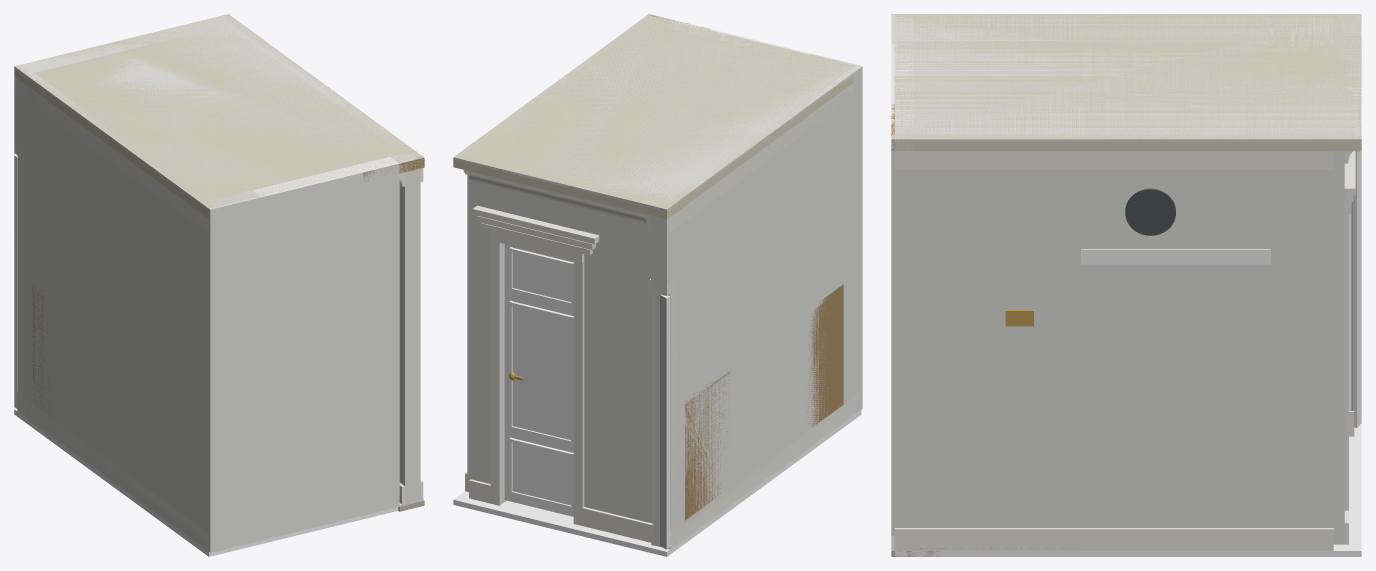
3 views of the same model, side by side, from view 1: azimuth 30°, elevation 25°; view 2: azimuth 150°, elevation 25°; view 3: azimuth 270°, elevation 25° (orthographic). The views are drawn at different scales.
Visible parts, largest first — view 1: Proposal revision | Family cloakroom partition | end.001, Cloakroom | ceiling.001, Proposal revision | House front centre | corrected wall 1.00, Proposal revision | House front centre | corrected wall 0.00, Proposal revision | Bedroom 4 en suite | floor.001, Proposal revision | House front centre | corrected wall 4.00, Proposal revision | Cloakroom east | end.001, Proposal | Bricked-up front centre window.001, Proposal revision | House front centre | corrected wall 2.00, Proposal revision | Exterior brick floor band First front.00 (×2), Family room | ceiling.001, Proposal revision | House front centre | corrected wall 3.00 (+10 smaller); view 2: Proposal revision | Family cloakroom partition | end.001, Cloakroom | ceiling.001, Proposal revision | Cloakroom hall door | pier 0.001, Proposal revision | Bedroom 4 en suite | floor.001, Photo detail | Cloakroom hall door leaf 1 raised panel.010, Entrance hall ceiling west.001, Proposal revision | Cloakroom hall door | end.001, Proposal revision | Family hall door | end.001, Cloakroom hall door | door architrave.003, Proposal revision | Bedroom 4 | floor.001, Proposal | Office dado panelling east south.001, Proposal | Office dado panelling east middle.001 (+23 smaller); view 3: Proposal revision | Cloakroom east | end.001, Cloakroom | ceiling.001, Proposal revision | Bedroom 4 en suite | floor.001, Entrance hall ceiling west.001, Cloakroom east | skirting end1.001, Circulation detail | Cove Cloakroom east 1.001, Proposal revision | Cloakroom hall door | end.001, Entrance hall | floor.001, Proposal revision | Landing | floor.001, Hall small fitting | Coat rack board.001, Proposal revision | Bedroom 4 | floor.001, Photo detail | Family hall door leaf 2 panelled leaf.001 (+6 smaller).
Boxes of the visible parts, x1,y1,x2,y2 form: Proposal revision | Family cloakroom partition | end.001: (26, 85, 208, 551); Cloakroom | ceiling.001: (34, 25, 411, 206); Proposal revision | House front centre | corrected wall 1.00: (262, 191, 325, 540); Proposal revision | House front centre | corrected wall 0.00: (201, 207, 261, 552); Proposal revision | Bedroom 4 en suite | floor.001: (58, 17, 402, 200); Proposal revision | House front centre | corrected wall 4.00: (375, 173, 399, 512); Proposal revision | Cloakroom east | end.001: (399, 168, 420, 503); Proposal | Bricked-up front centre window.001: (326, 250, 374, 402); Proposal revision | House front centre | corrected wall 2.00: (326, 391, 374, 524); Proposal revision | Exterior brick floor band First front.00 (×2): (206, 157, 399, 219); Family room | ceiling.001: (14, 64, 216, 218); Proposal revision | House front centre | corrected wall 3.00: (326, 179, 374, 261); Proposal revision | Family cloakroom partition | end.001: (678, 88, 856, 533); Cloakroom | ceiling.001: (475, 17, 852, 198); Proposal revision | Cloakroom hall door | pier 0.001: (580, 208, 652, 523); Proposal revision | Bedroom 4 en suite | floor.001: (466, 18, 857, 187); Photo detail | Cloakroom hall door leaf 1 raised panel.010: (512, 306, 571, 440); Entrance hall ceiling west.001: (453, 15, 669, 217); Proposal revision | Cloakroom hall door | end.001: (470, 181, 496, 483); Proposal revision | Family hall door | end.001: (654, 212, 678, 549); Cloakroom hall door | door architrave.003: (490, 241, 506, 505); Proposal revision | Bedroom 4 | floor.001: (569, 66, 859, 210); Proposal | Office dado panelling east south.001: (807, 288, 843, 427); Proposal | Office dado panelling east middle.001: (685, 380, 729, 520); Proposal revision | Cloakroom east | end.001: (894, 169, 1333, 527); Cloakroom | ceiling.001: (894, 18, 1333, 133); Proposal revision | Bedroom 4 en suite | floor.001: (894, 15, 1361, 131); Entrance hall ceiling west.001: (894, 18, 1361, 151); Cloakroom east | skirting end1.001: (894, 528, 1333, 550); Circulation detail | Cove Cloakroom east 1.001: (894, 151, 1333, 169); Proposal revision | Cloakroom hall door | end.001: (1333, 151, 1344, 544); Entrance hall | floor.001: (894, 430, 1361, 556); Proposal revision | Landing | floor.001: (894, 132, 1361, 141); Hall small fitting | Coat rack board.001: (1081, 249, 1270, 264); Proposal revision | Bedroom 4 | floor.001: (897, 14, 1361, 71); Photo detail | Family hall door leaf 2 panelled leaf.001: (1353, 151, 1361, 427).
Size of the model in its own units: 1.75 by 2.72 by 2.78.
